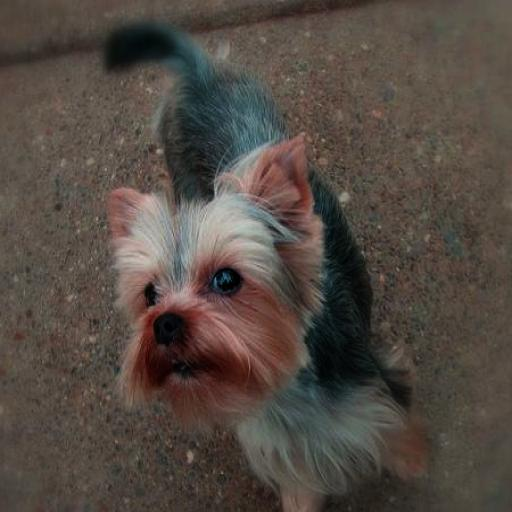dog_face: (101, 145, 319, 406)
